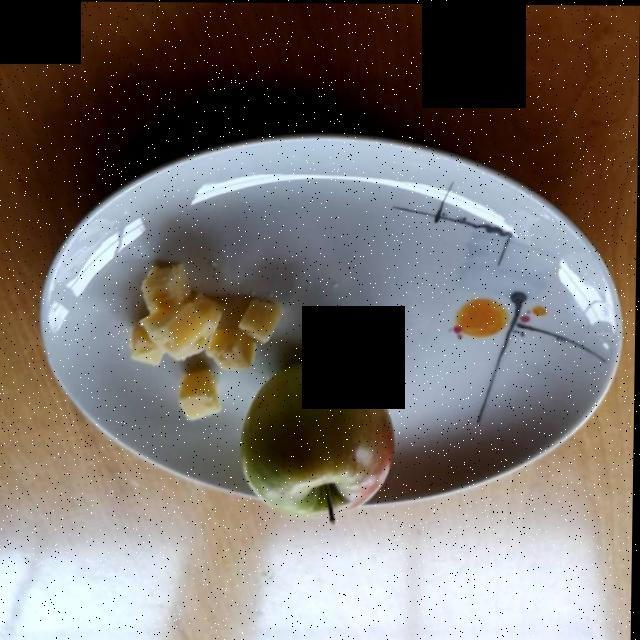apple: (243, 357, 391, 512)
